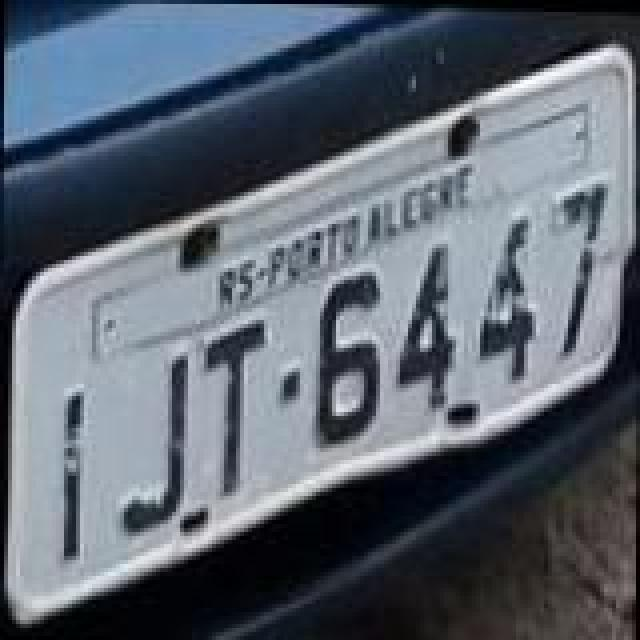1: (60, 386, 88, 566)
4: (550, 174, 614, 358), (394, 240, 462, 412), (472, 212, 536, 384)
6: (316, 268, 388, 444)
J: (118, 354, 190, 542)
T: (200, 312, 268, 496)
